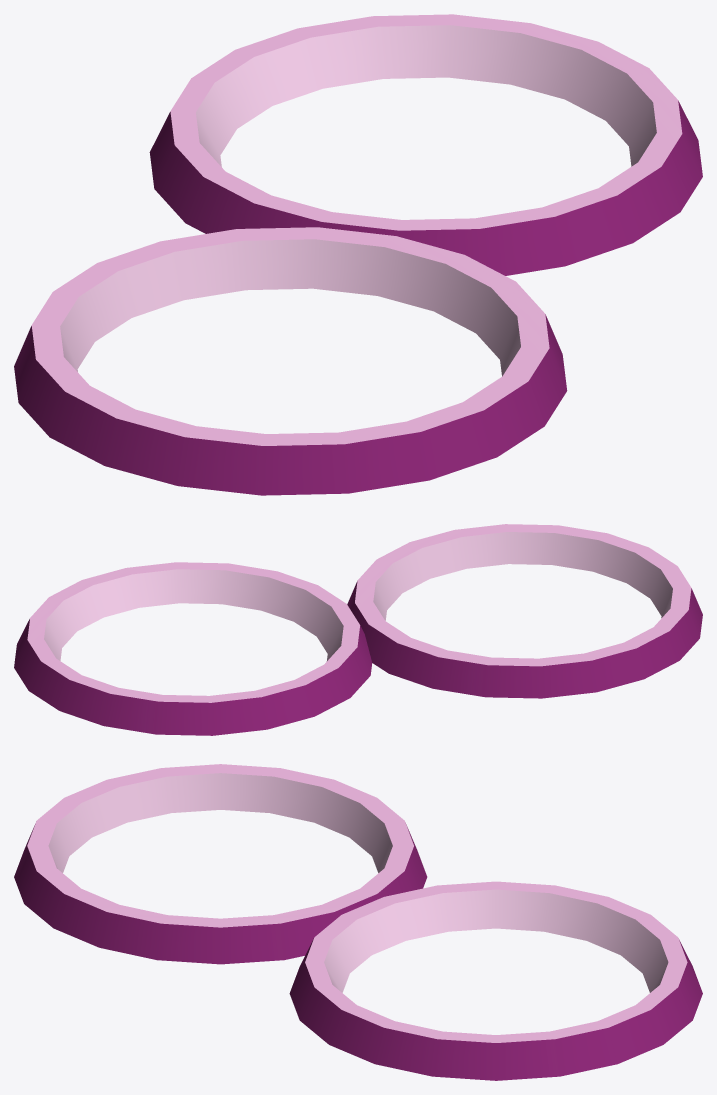
Rendered from Onion_Slice.glb.
3 renders of one model, top to bottom at view 1: azimuth 30°, elevation 25°; view 2: azimuth 150°, elevation 25°; view 3: azimuth 270°, elevation 25°, orthographic. The views are drawn at different scales.
Parts seen in each view (by area): view 1: Onion_Slice; view 2: Onion_Slice; view 3: Onion_Slice.
Part boxes in pixels (x1,y1,x2,y2): Onion_Slice: [14, 14, 702, 495]; Onion_Slice: [14, 524, 702, 735]; Onion_Slice: [14, 764, 702, 1080].
Size of the model in its own units: 20 by 1 by 20.
1 material, 1 textured.
